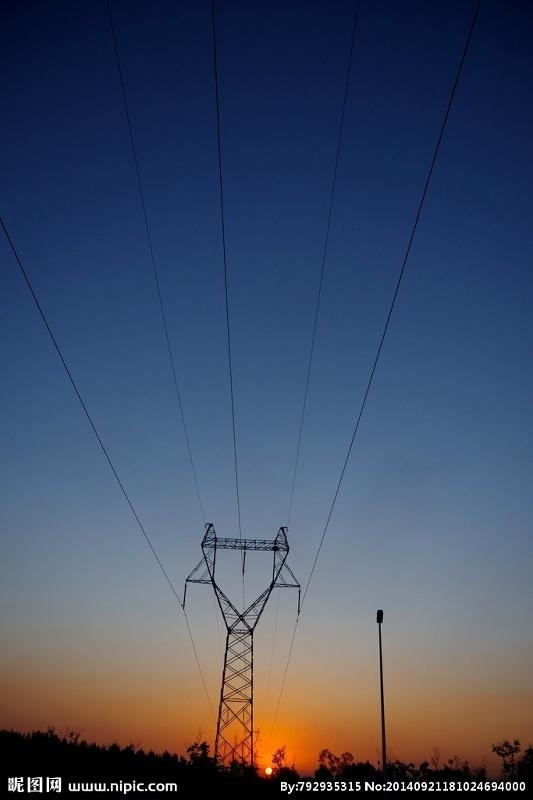power_tower: (164, 521, 309, 761)
